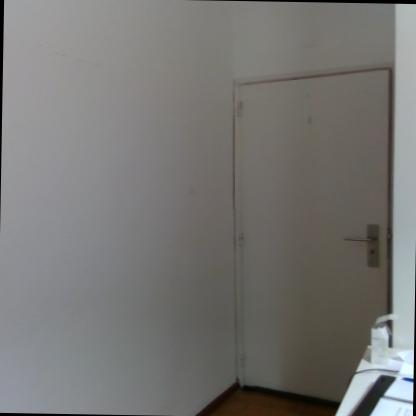closed: (210, 61, 394, 393)
